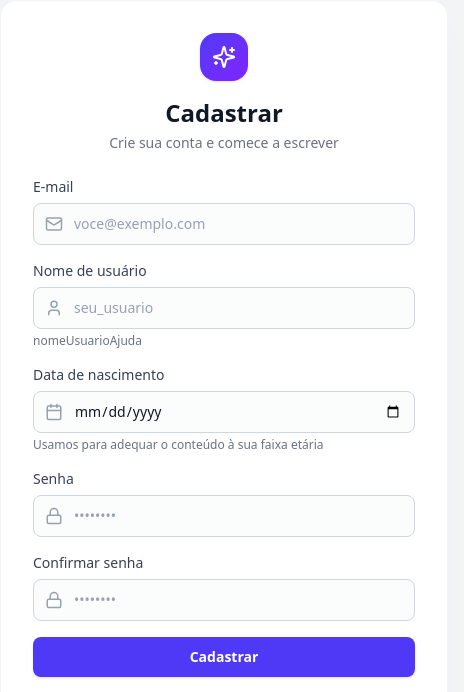
Scenario: Página de Cadastro › exibe erro quando senhas não coincidem
Type "a@b.com" into the field labelled "E-mail" at (224, 224), box [33,203,415,245]
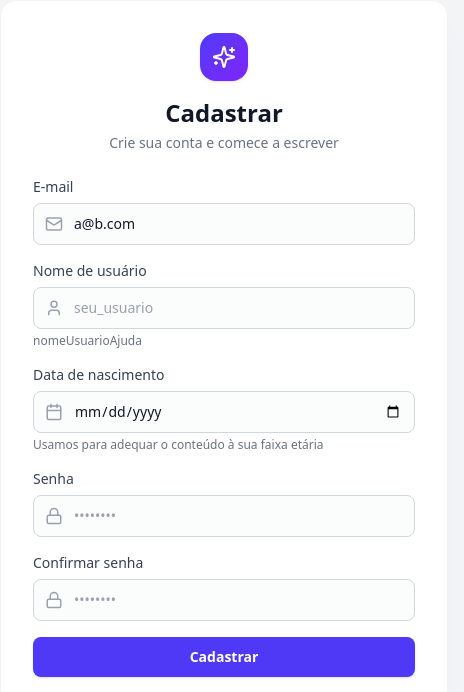
Type "user1" into the field labelled "Nome de usuário" at (224, 308), box [33,287,415,329]
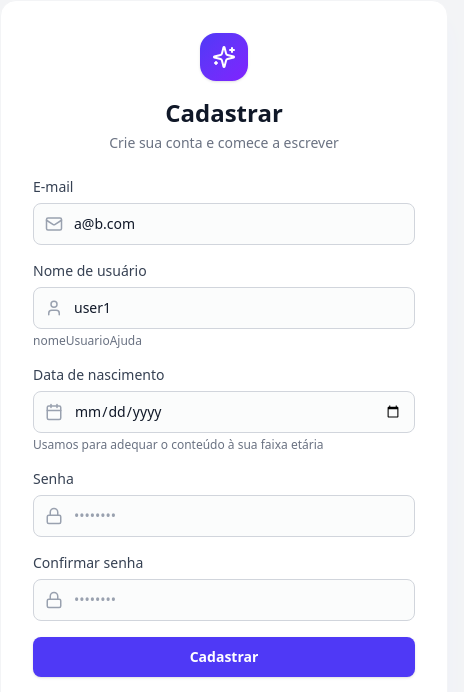
Type "2000-01-01" into the date field labelled "Data de nascimento" at (224, 412), box [33,391,415,433]
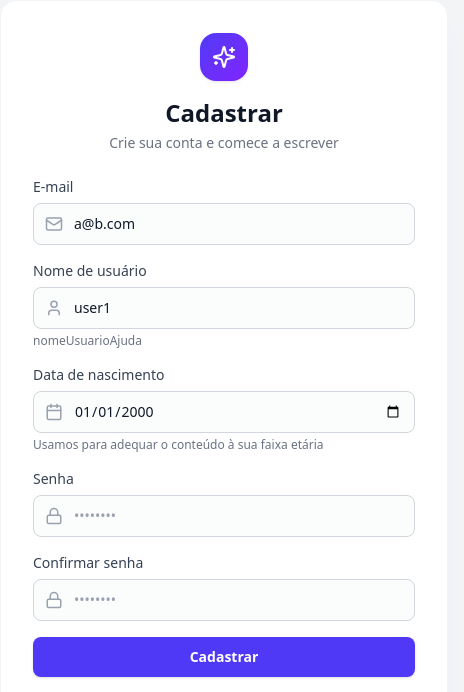
Type "123456" into the password field labelled "Senha" at (224, 516), box [33,495,415,537]
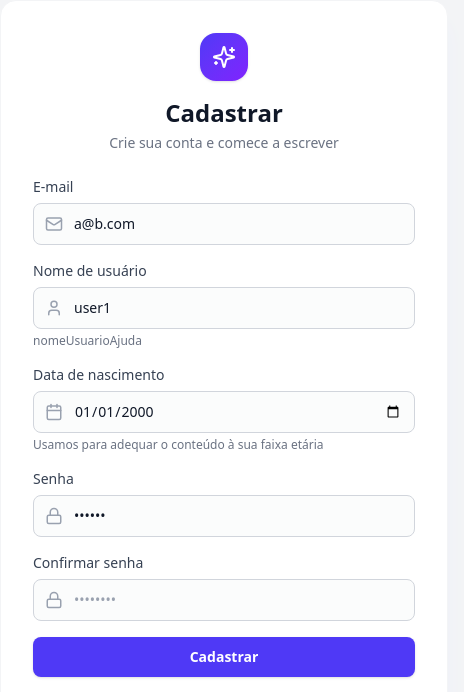
Type "654321" into the password field labelled "Confirmar senha" at (224, 600), box [33,579,415,621]
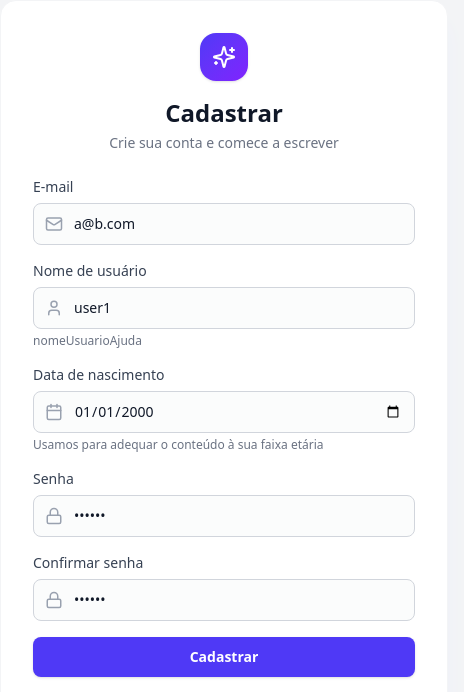
Click the button "Cadastrar" at (224, 657), box [33,637,415,677]
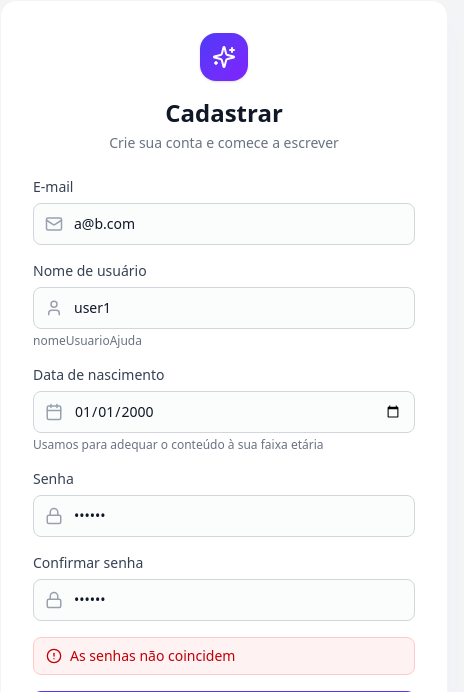
Check: the text "As senhas não coincidem" is shown, box [70,646,235,666]
